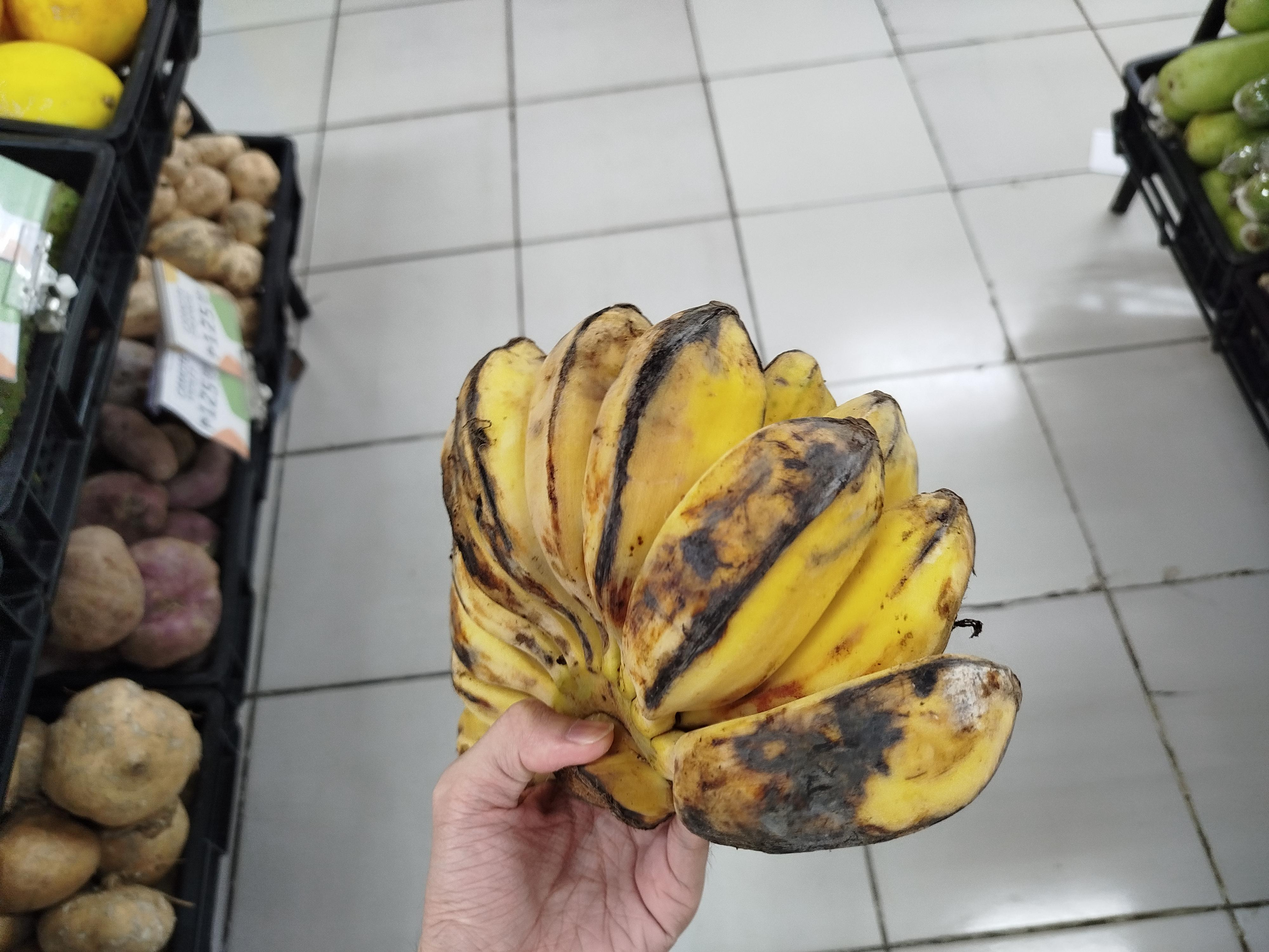ripe: (443, 302, 1021, 852)
